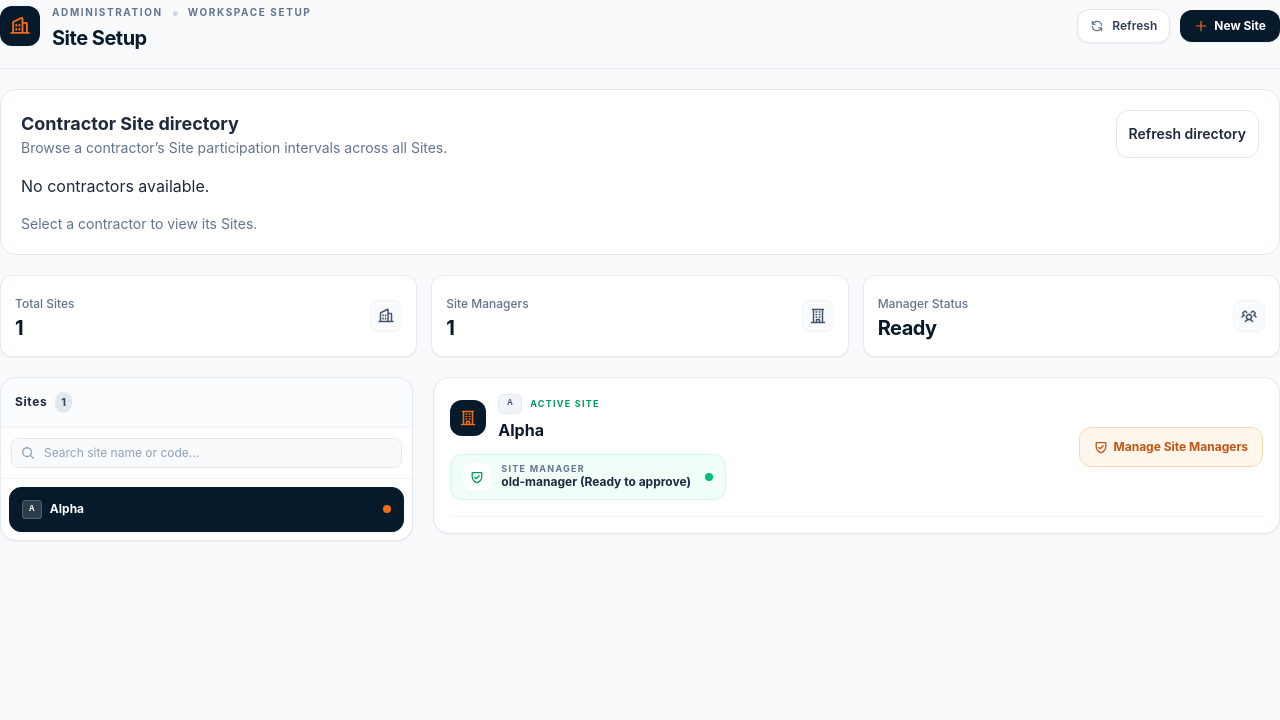
Test case: confirms and revokes the selected Site Manager, then allows a new assignment
Expected: the text "old-manager (Ready to approve)" is shown, [501,474,691,490]
Click the button "Manage Site Managers" at (1171, 447), box [1078,427,1263,467]
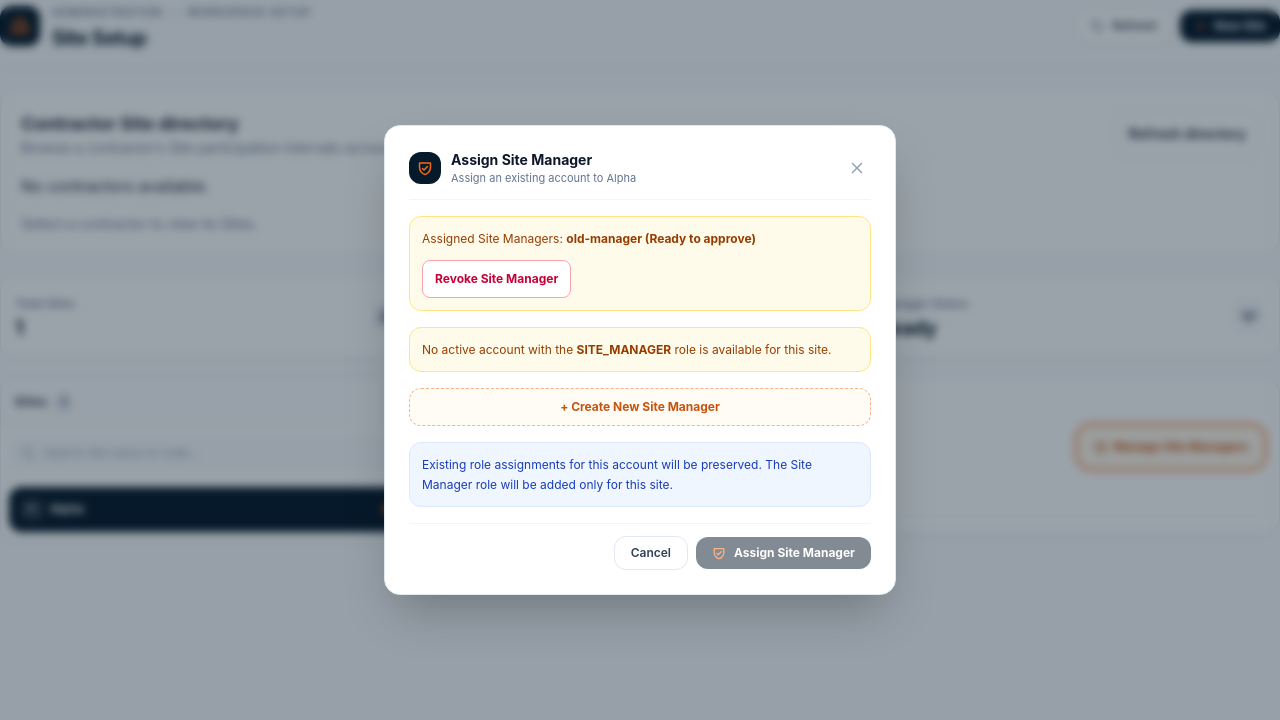
Click the button "Revoke Site Manager" at (497, 279), box [422,260,571,298]
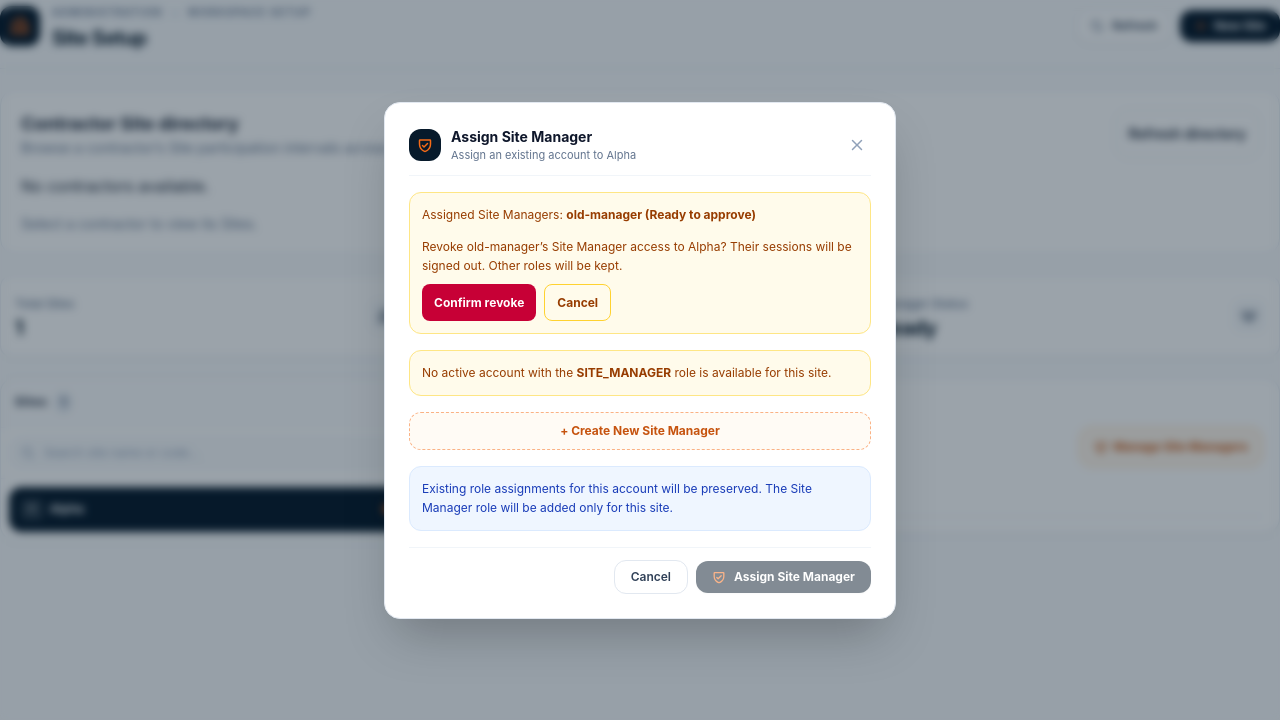
Click the button "Confirm revoke" at (479, 302), box [422,284,536,321]
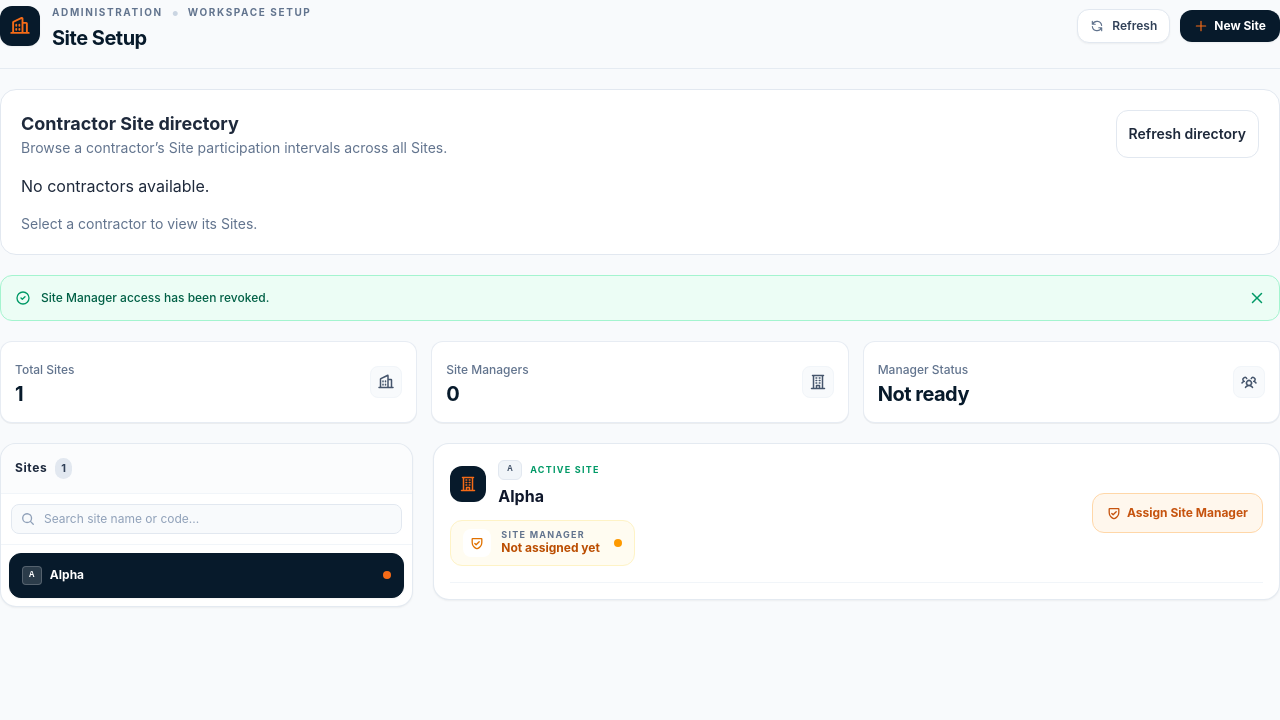
Expected: the text "Not assigned yet" is shown, [501,540,600,556]
